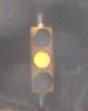Yellow: (25, 15, 55, 102)
